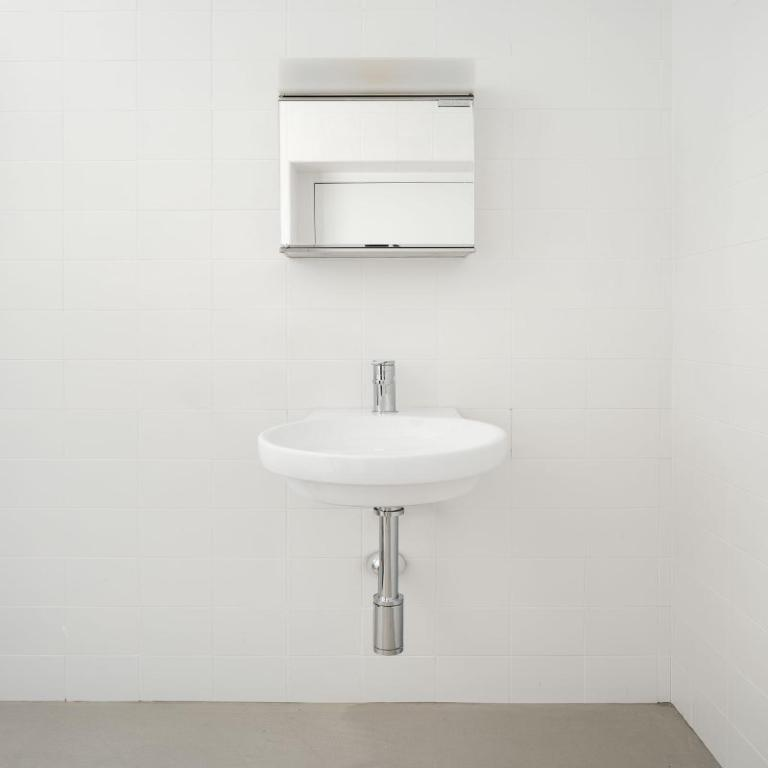white-walls: (42, 39, 262, 684)
